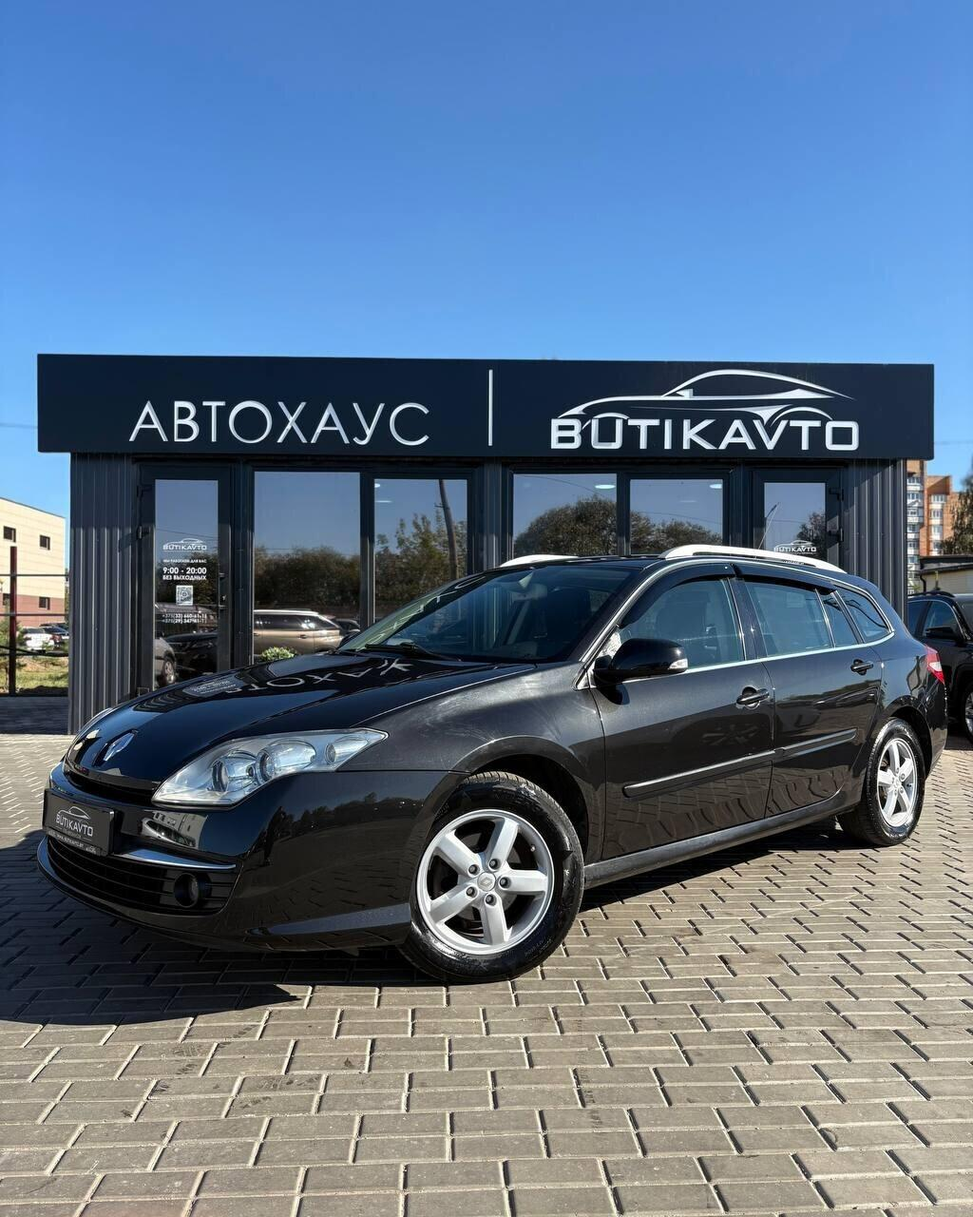Laguna_2007-2011: (37, 545, 950, 982)
